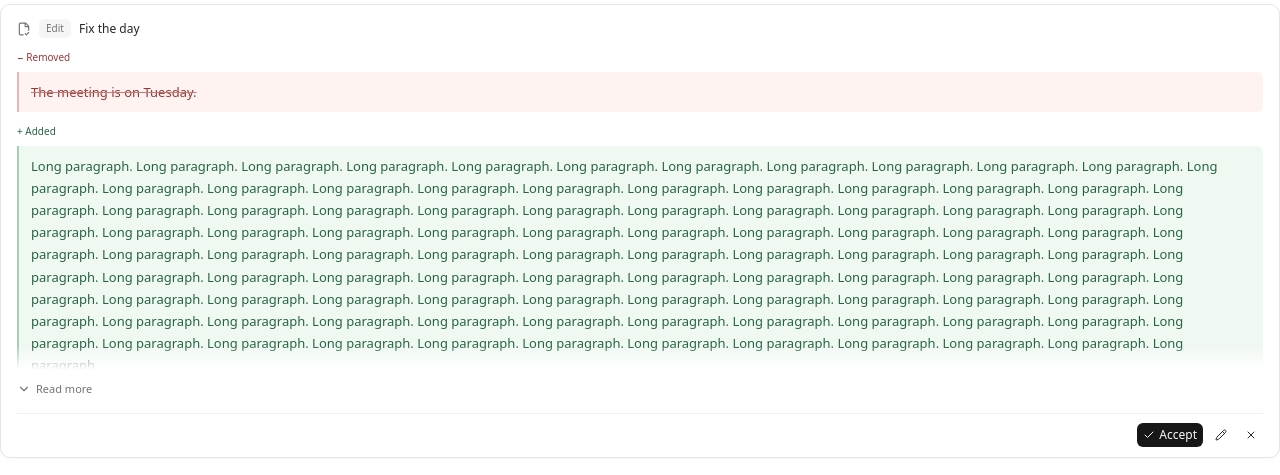
Scenario: shows the complete diff while editing and leaves short previews uncollapsed
Expected: the button "Read more" is shown, [17,378,92,400]
What coordinates should you click on to do the following:
click the button named "Edit proposal"
I would click on:
 (1221, 435)
Its box is [1209,423,1233,447].
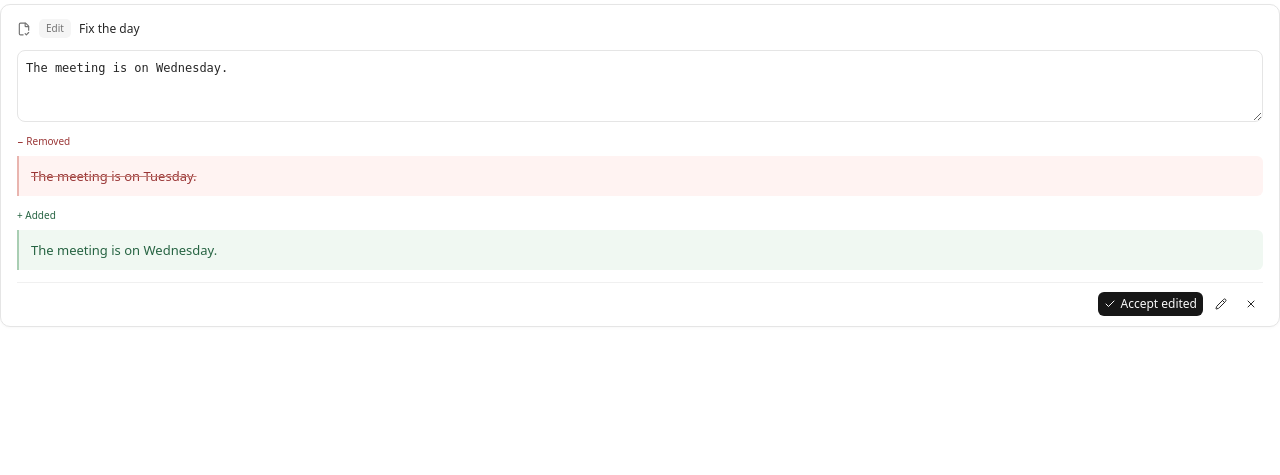
Expected: the button "Read more" is gone
